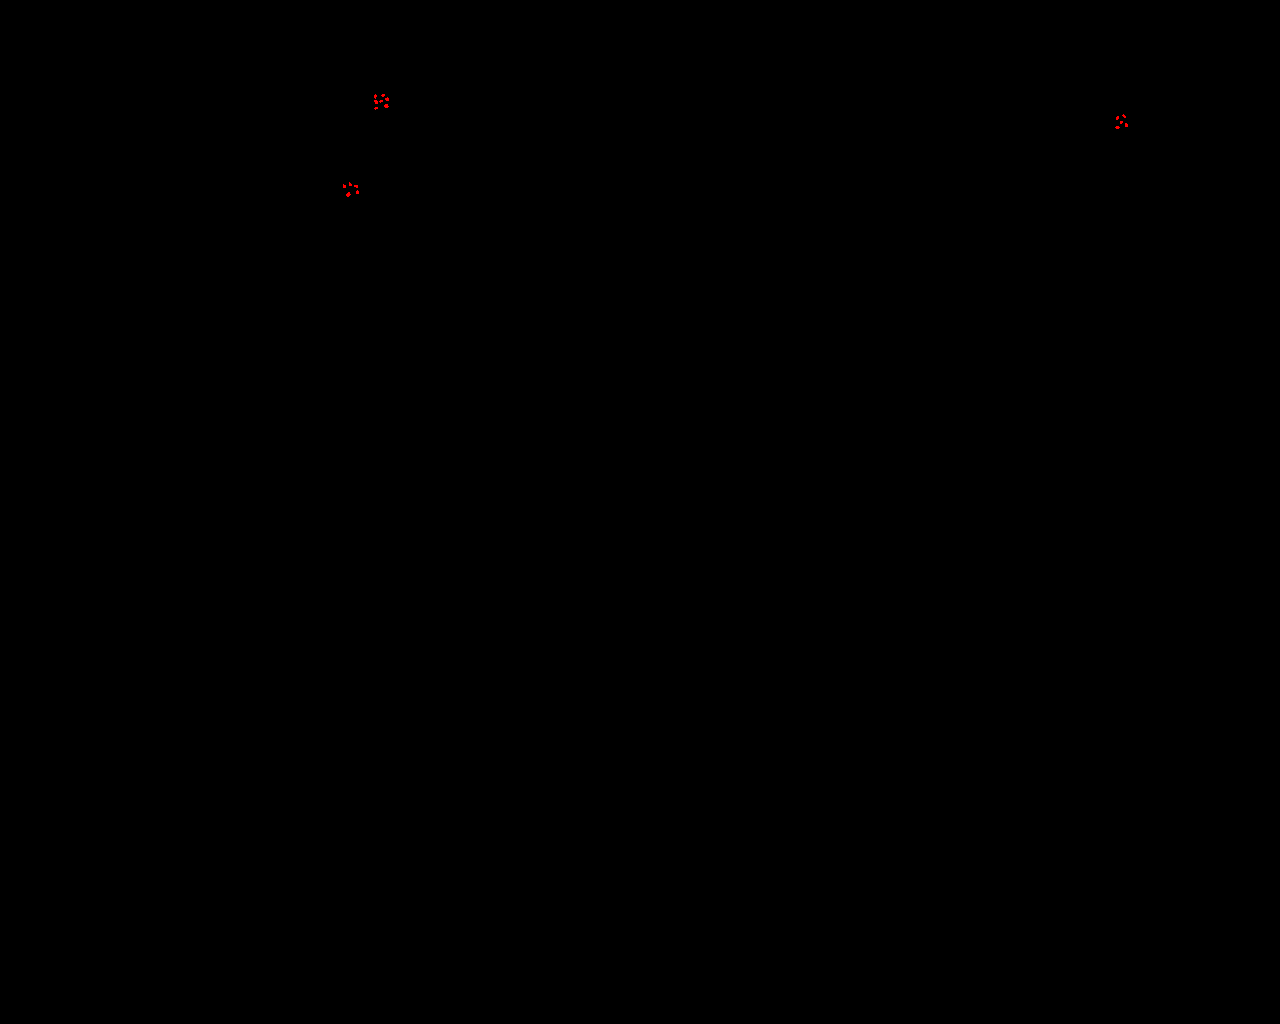Target: (346, 192, 351, 197), (385, 97, 389, 101), (374, 100, 378, 104), (1122, 114, 1126, 118), (374, 94, 377, 99), (379, 100, 383, 103), (385, 104, 389, 108), (374, 107, 378, 110), (1116, 116, 1119, 120), (1125, 123, 1128, 127), (349, 182, 352, 186), (343, 184, 346, 188), (354, 185, 358, 188), (356, 190, 359, 194), (1115, 126, 1120, 129), (381, 94, 385, 97), (1120, 121, 1123, 124)
